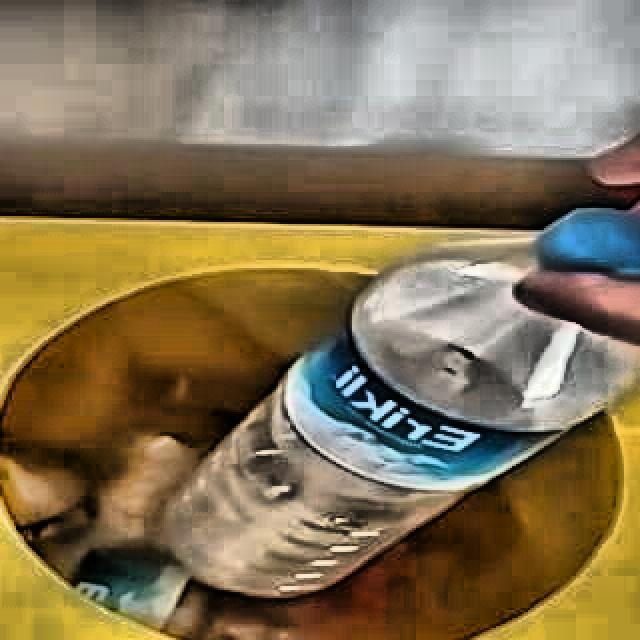plastic: (168, 208, 640, 596)
